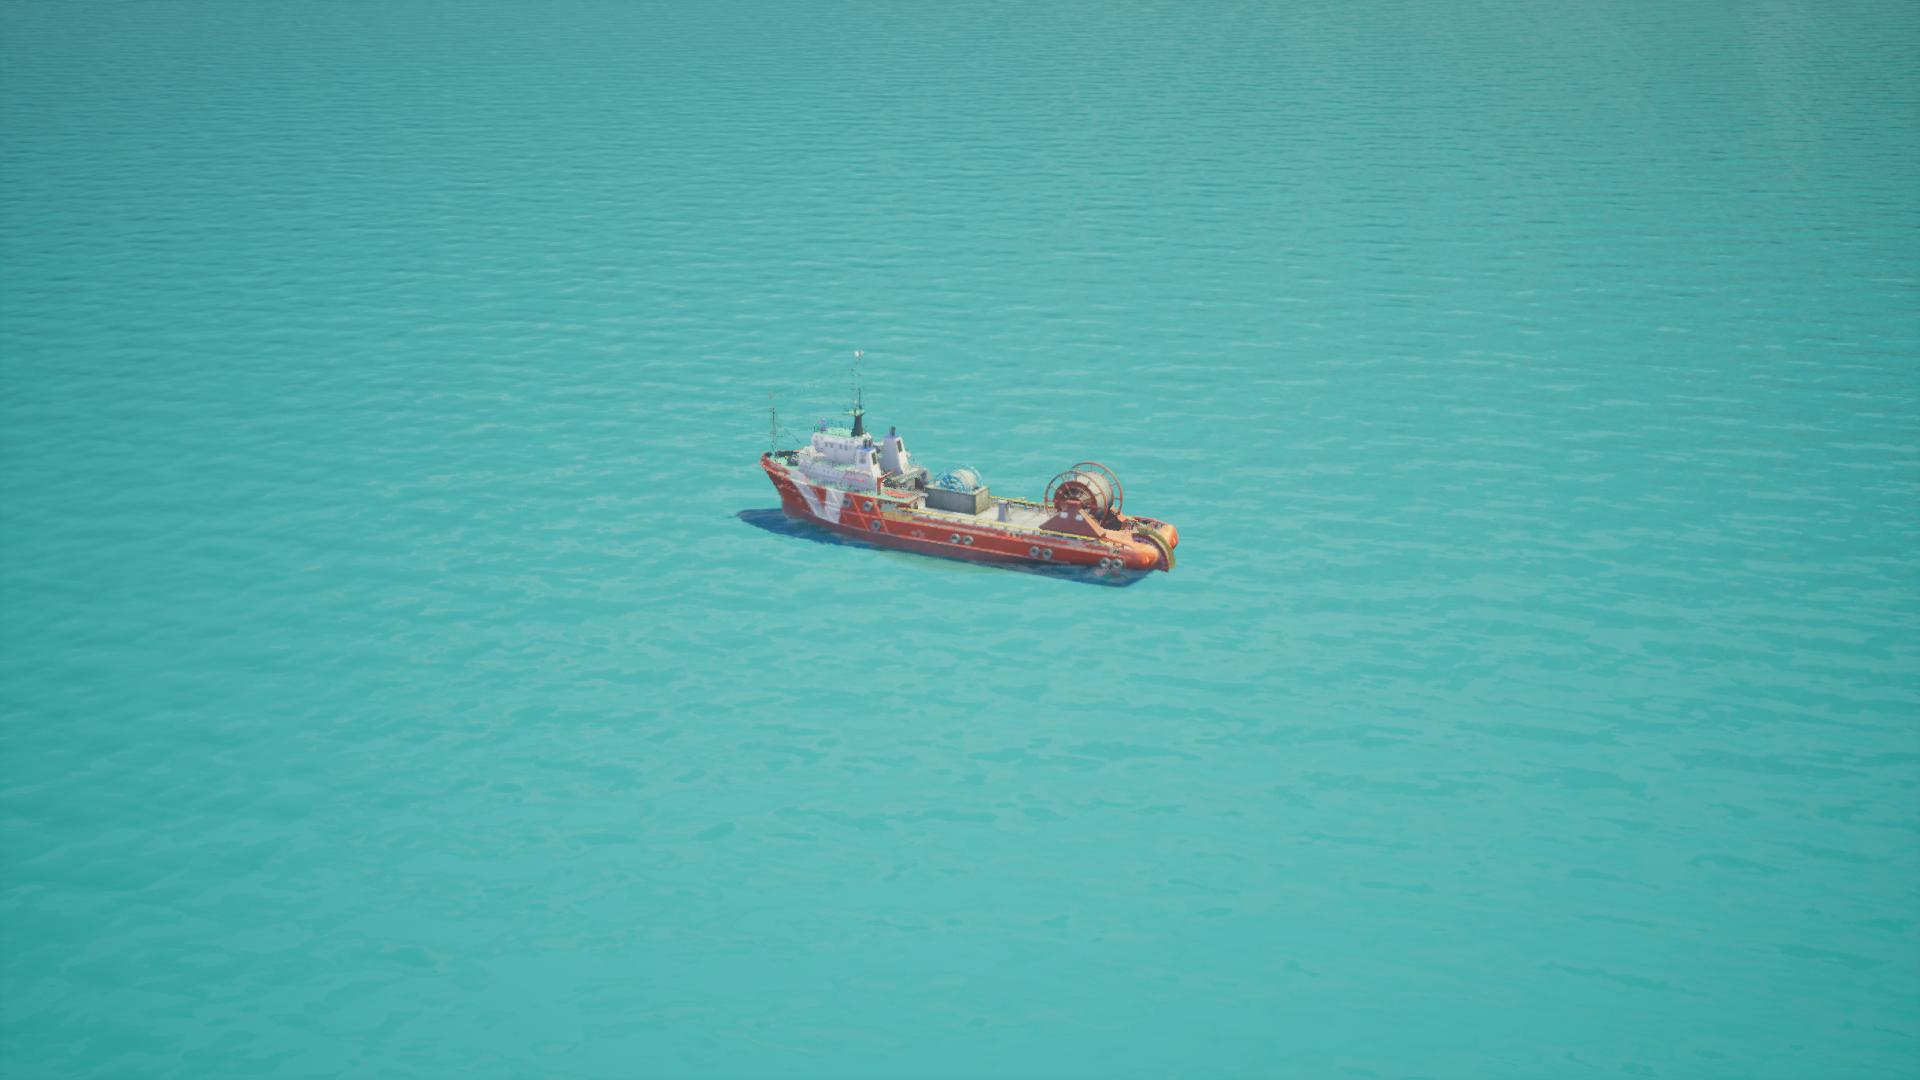Tug Boat: (727, 307, 1267, 617)
